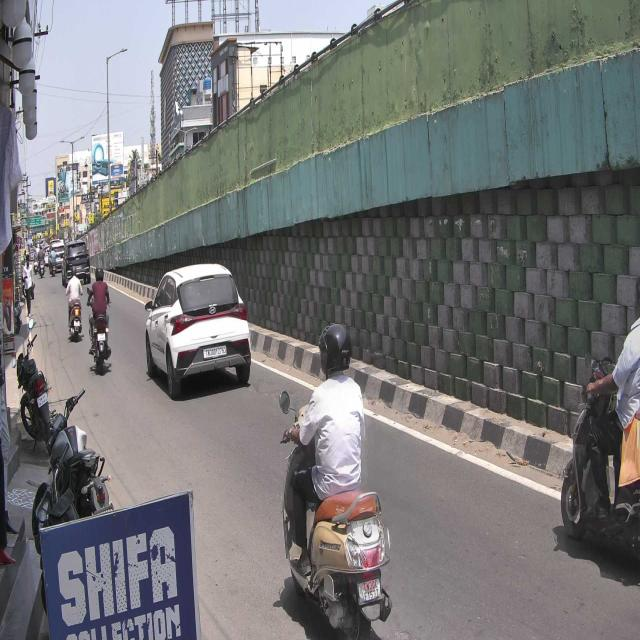single_rider: (282, 323, 393, 640)
